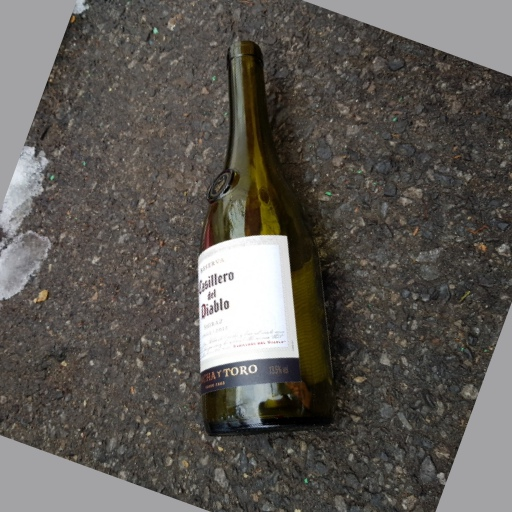Glass_2: (196, 39, 335, 438)
